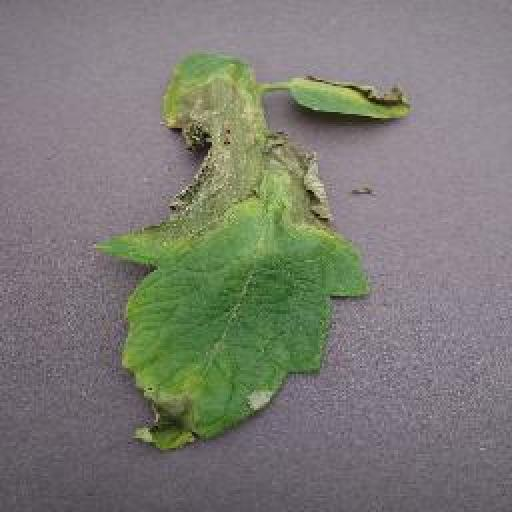Late Blight: (82, 49, 370, 455), (284, 66, 411, 130)
